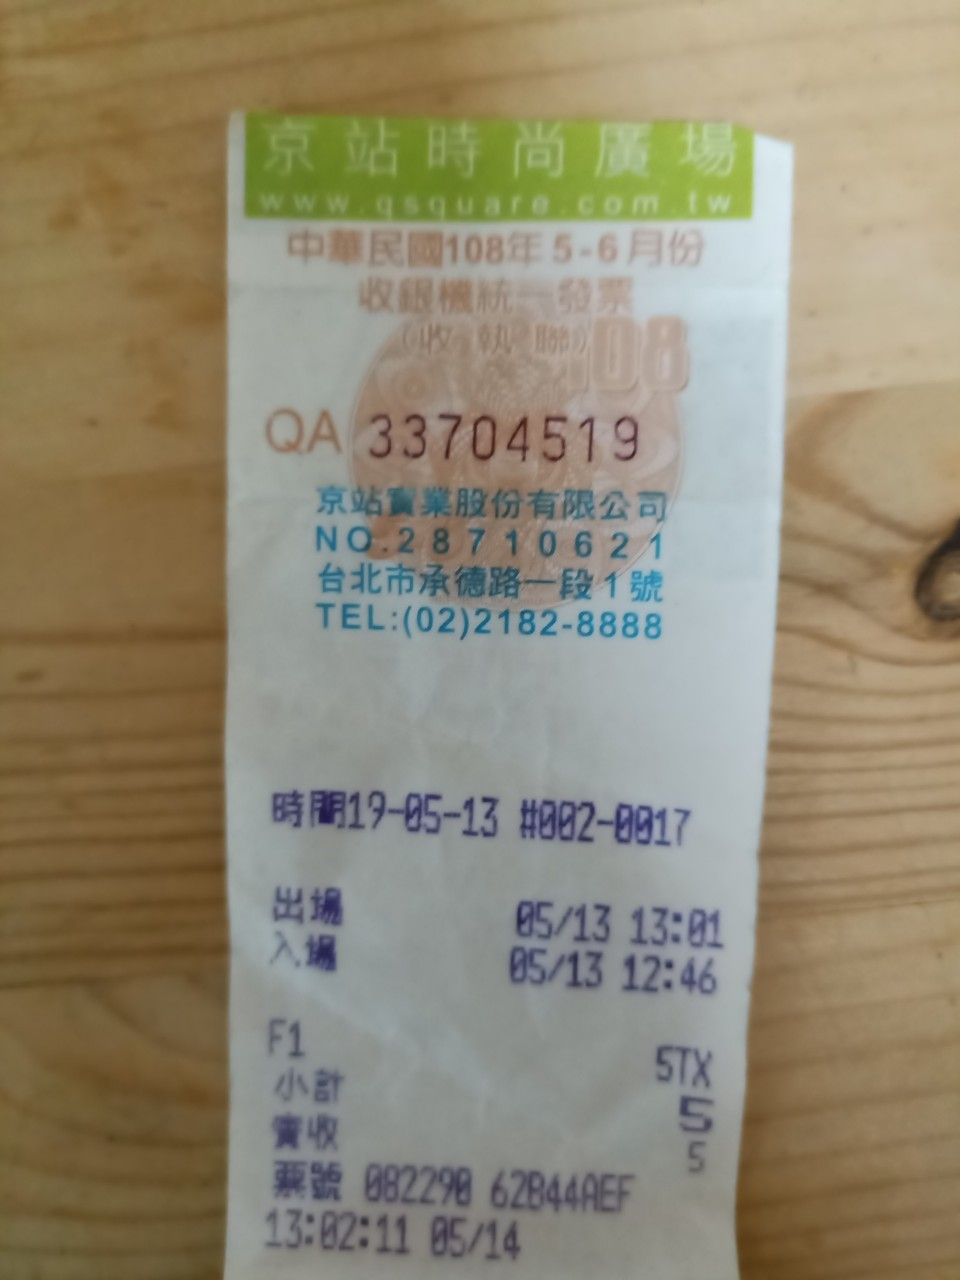Date_Old: (446, 225, 713, 270)
Number_Old: (361, 411, 647, 467)
